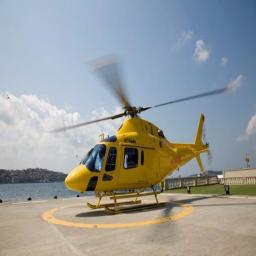helicopter: (44, 50, 235, 218)
